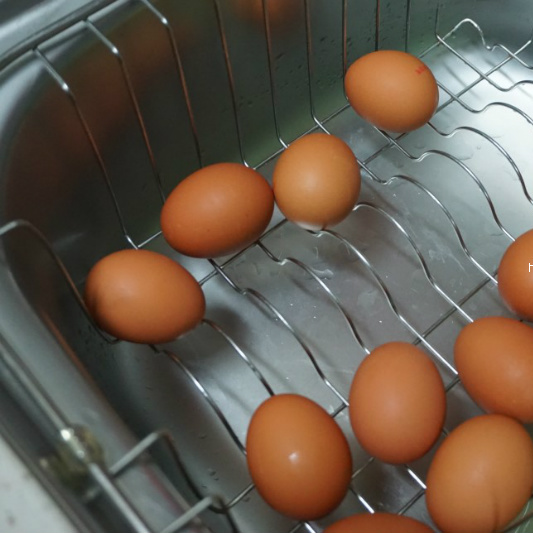egg: (85, 48, 441, 340), (244, 225, 532, 533)
